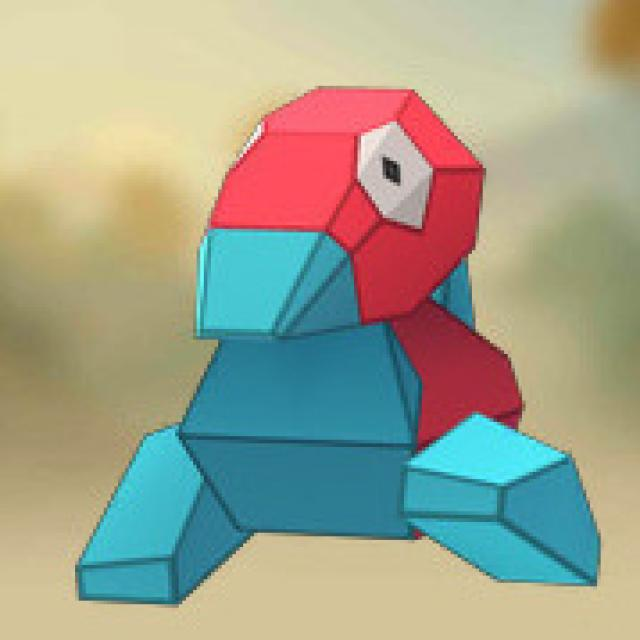Porygon: (108, 85, 585, 591)
